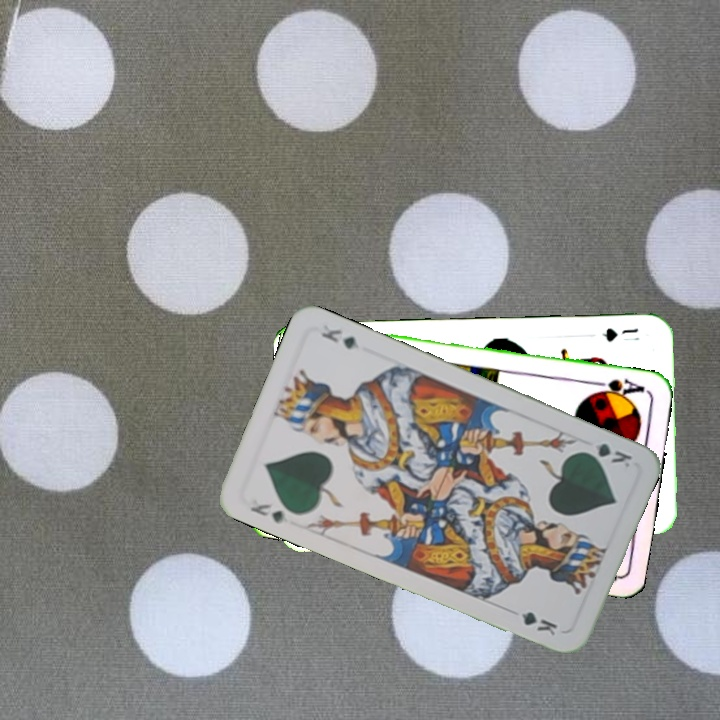GK: (577, 439, 635, 471), (246, 499, 292, 527)
GU: (598, 324, 641, 344)
SA: (590, 374, 650, 402)
